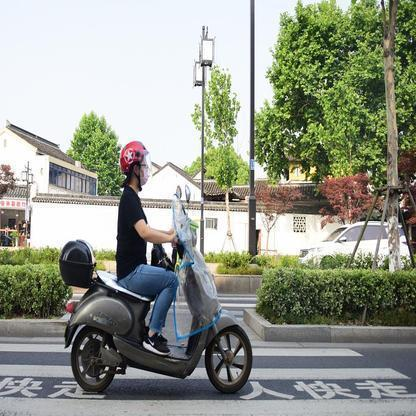target: (59, 137, 252, 396)
